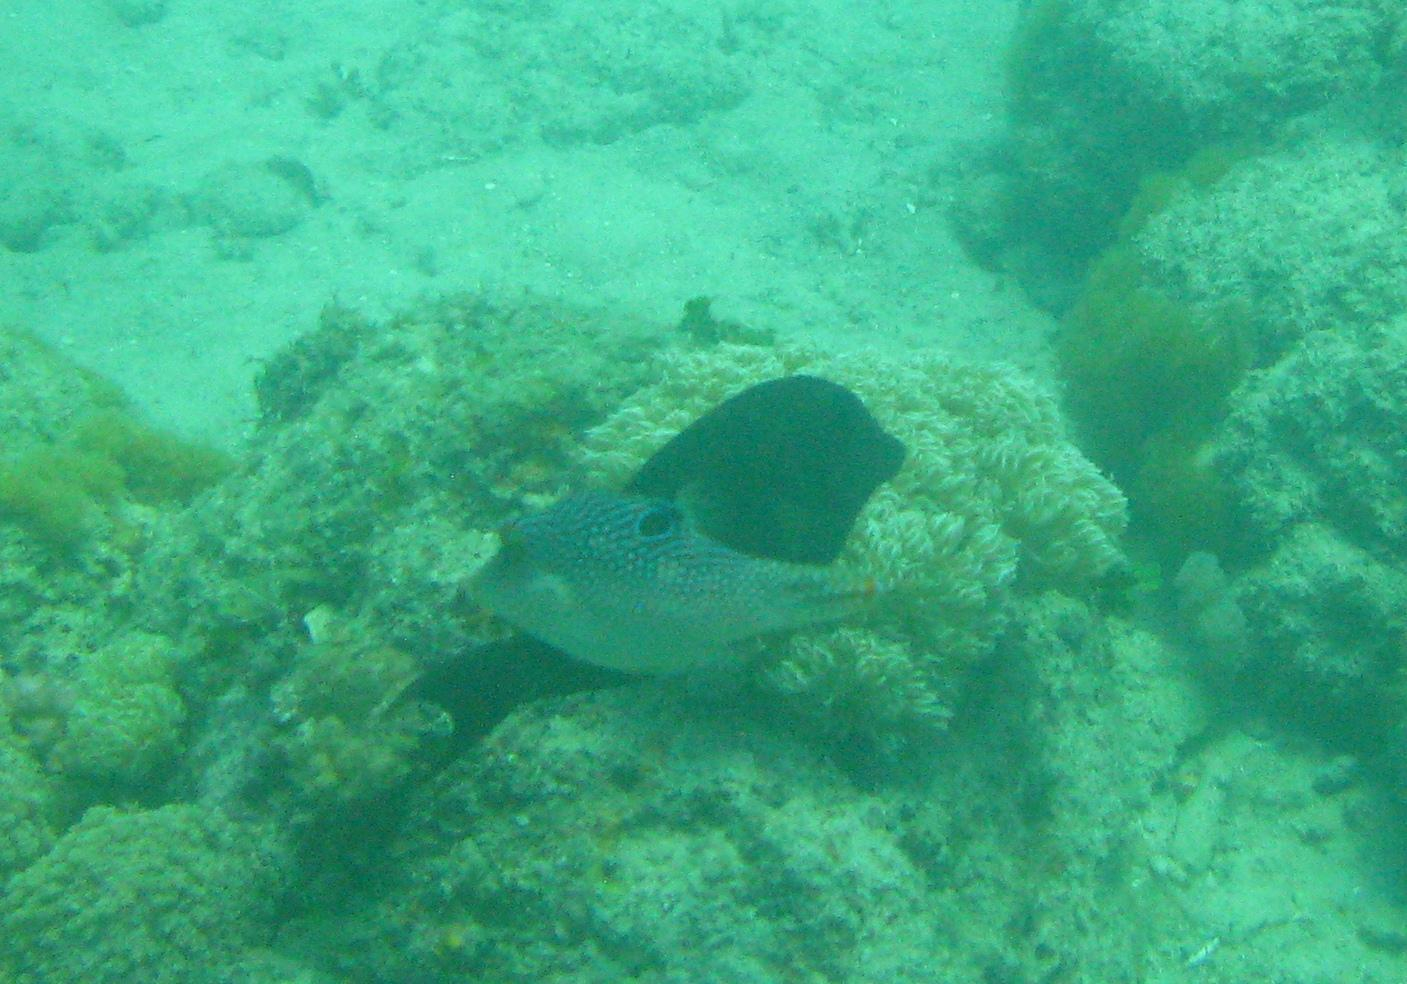Fish: (468, 485, 904, 677)
